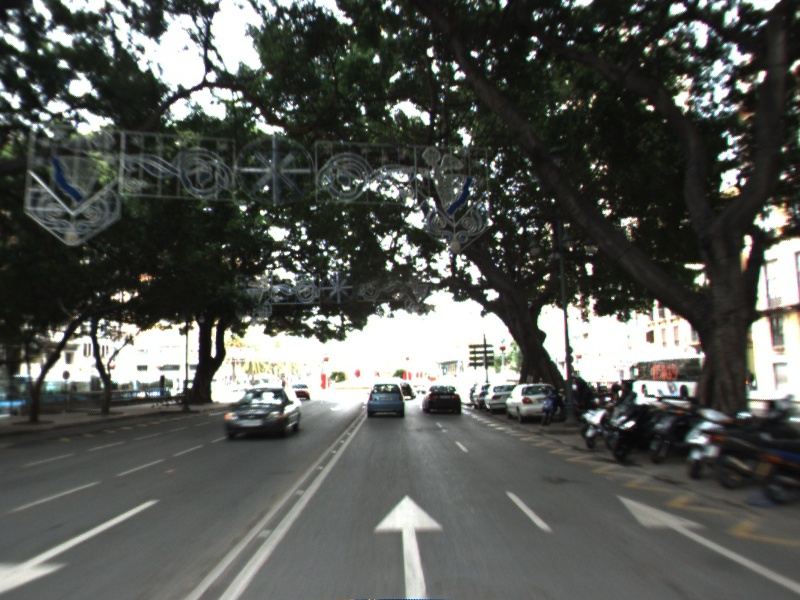STRAIGHT: (610, 491, 800, 594), (371, 490, 447, 600)
